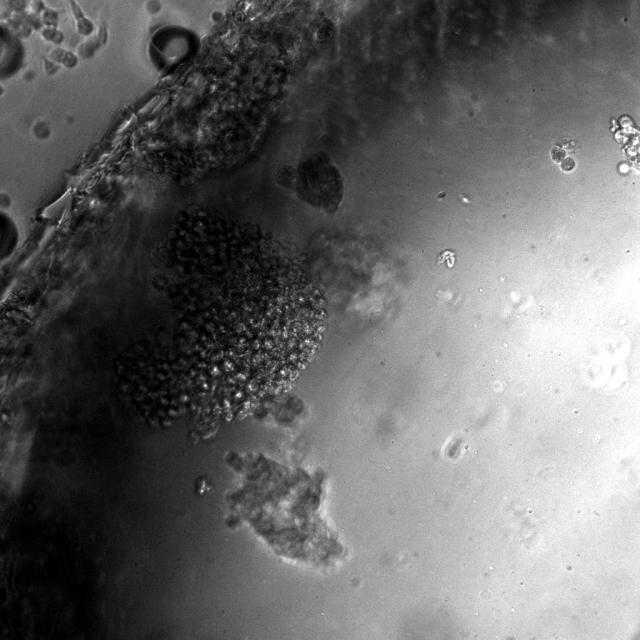organoid: (117, 205, 408, 439), (225, 451, 345, 566), (276, 152, 343, 213), (609, 114, 639, 174), (551, 139, 579, 172), (438, 249, 457, 268)
